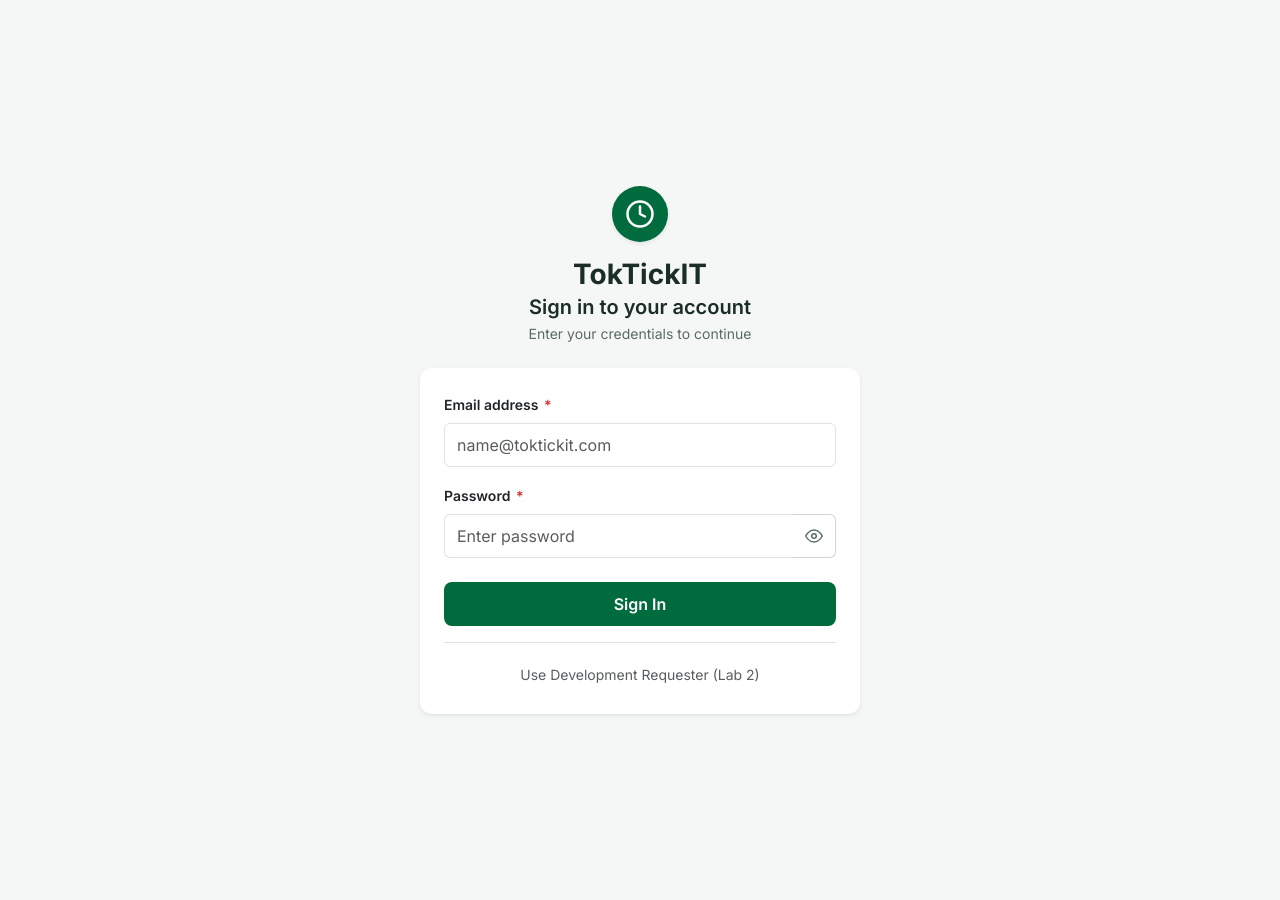
it: Login Component — UI-01 (AC-01, FR-01, FR-02) › cleans up requester context on logout and returns directly to Login view without change requester or sign in (lab3) buttons
Type "jennifer.anderson@example.com" into the field labelled "Email address *" at (640, 445), box [444,423,836,467]
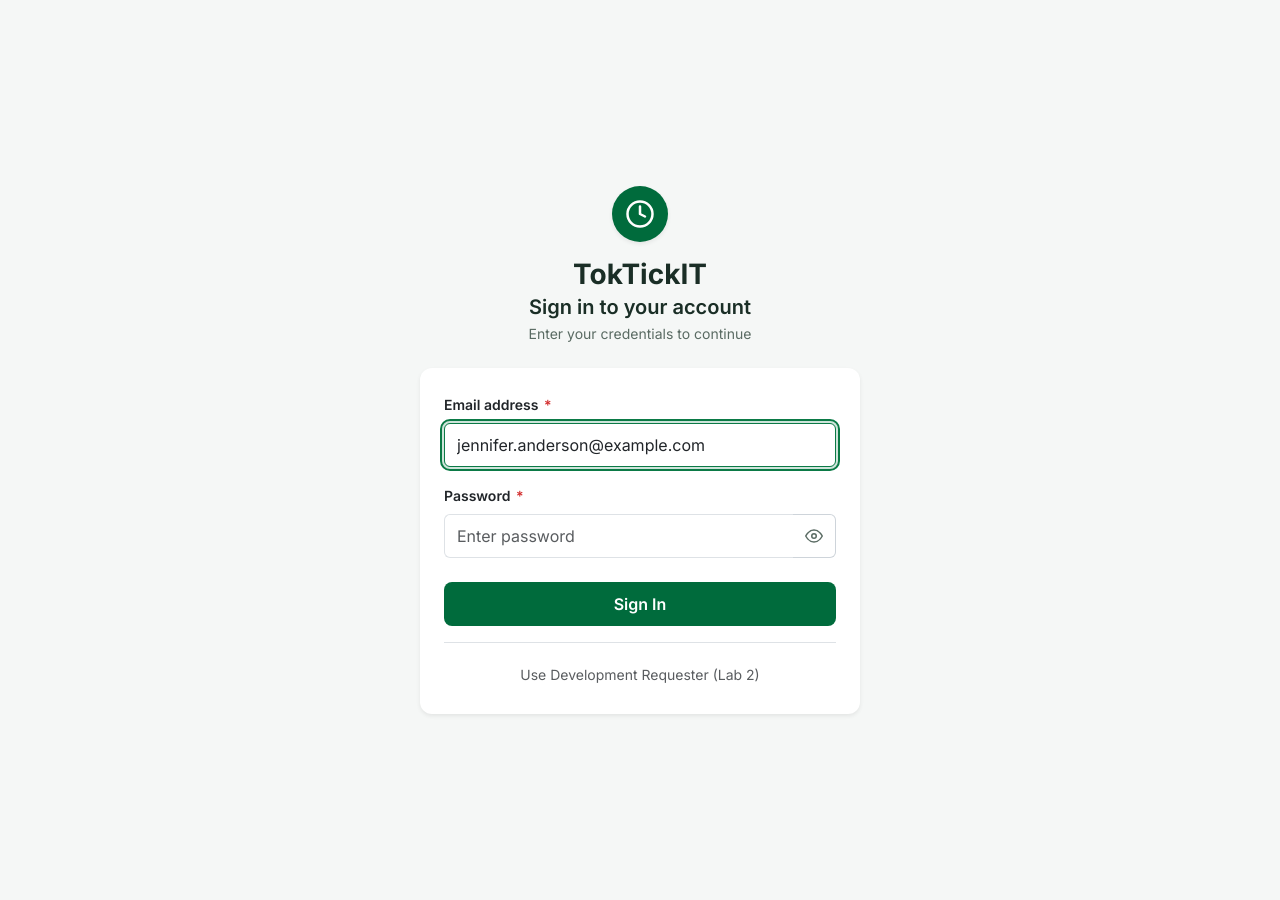
Type "Password123!" into the password field labelled "Password *" at (619, 536), box [444,514,794,558]
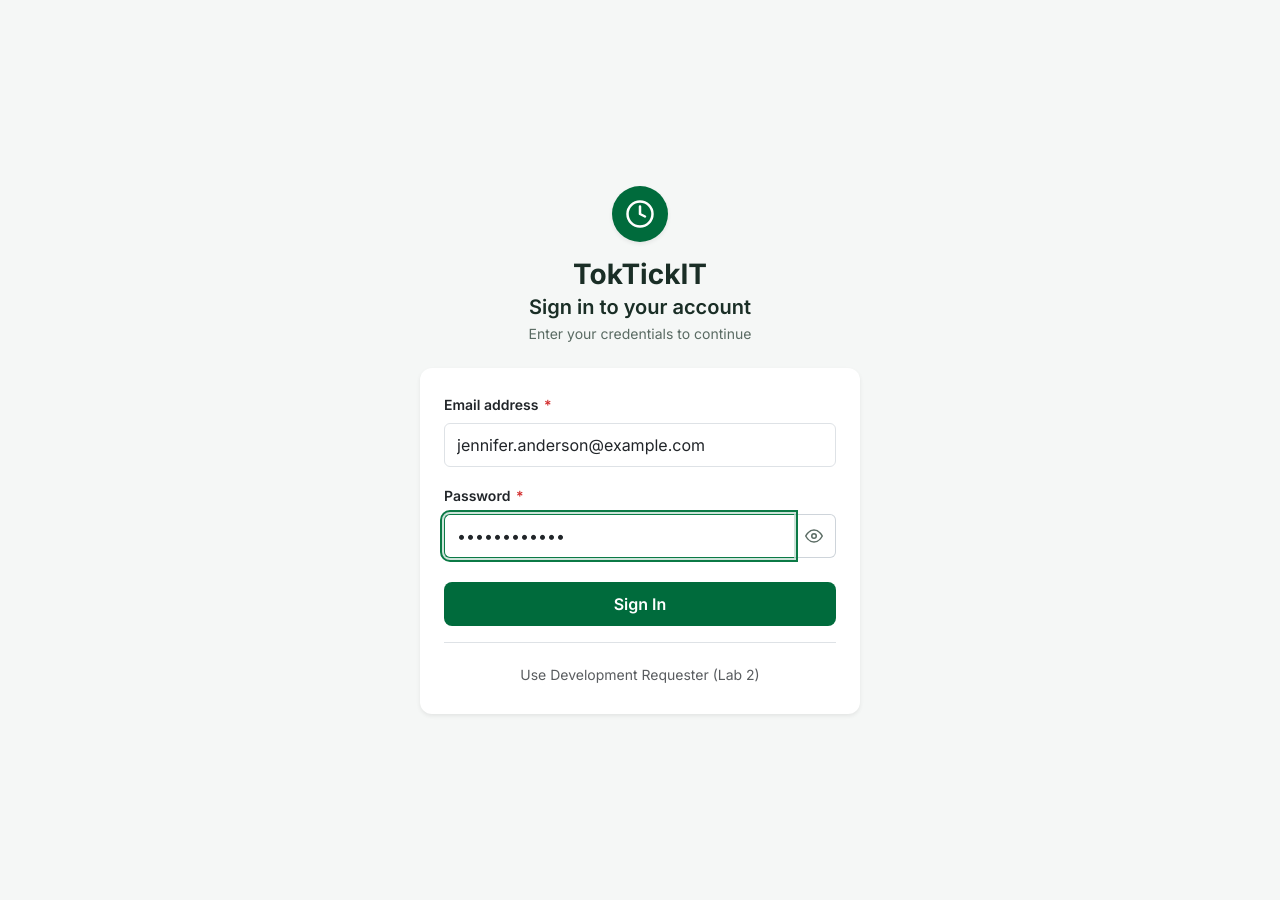
Click the button "Sign In" at (640, 604), box [444,582,836,626]
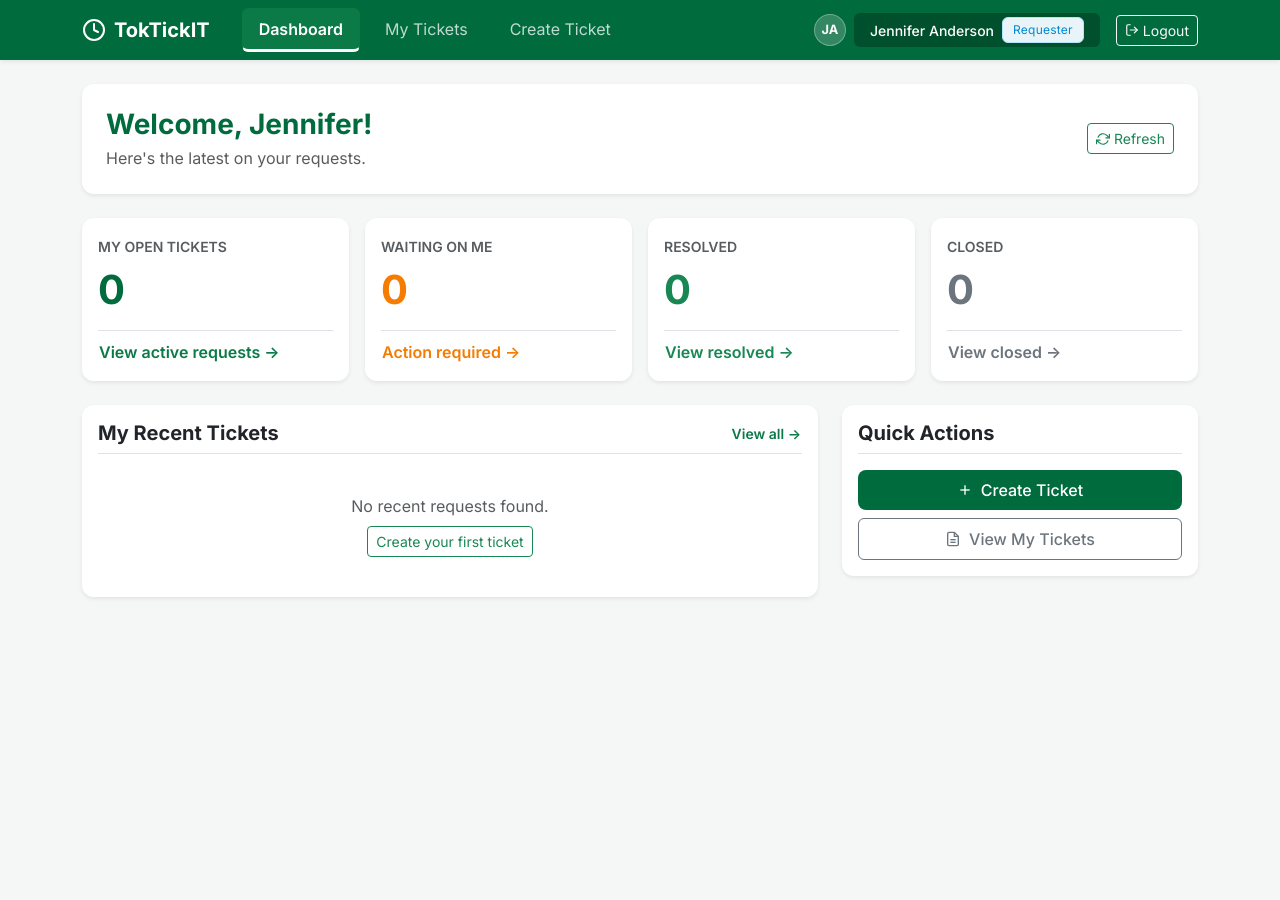
expect the heading "Welcome, Jennifer!" is shown: met, box [106,108,372,142]
expect the button "Logout" is shown: met
Click the button "Logout" at (1157, 30), box [1116,14,1198,46]
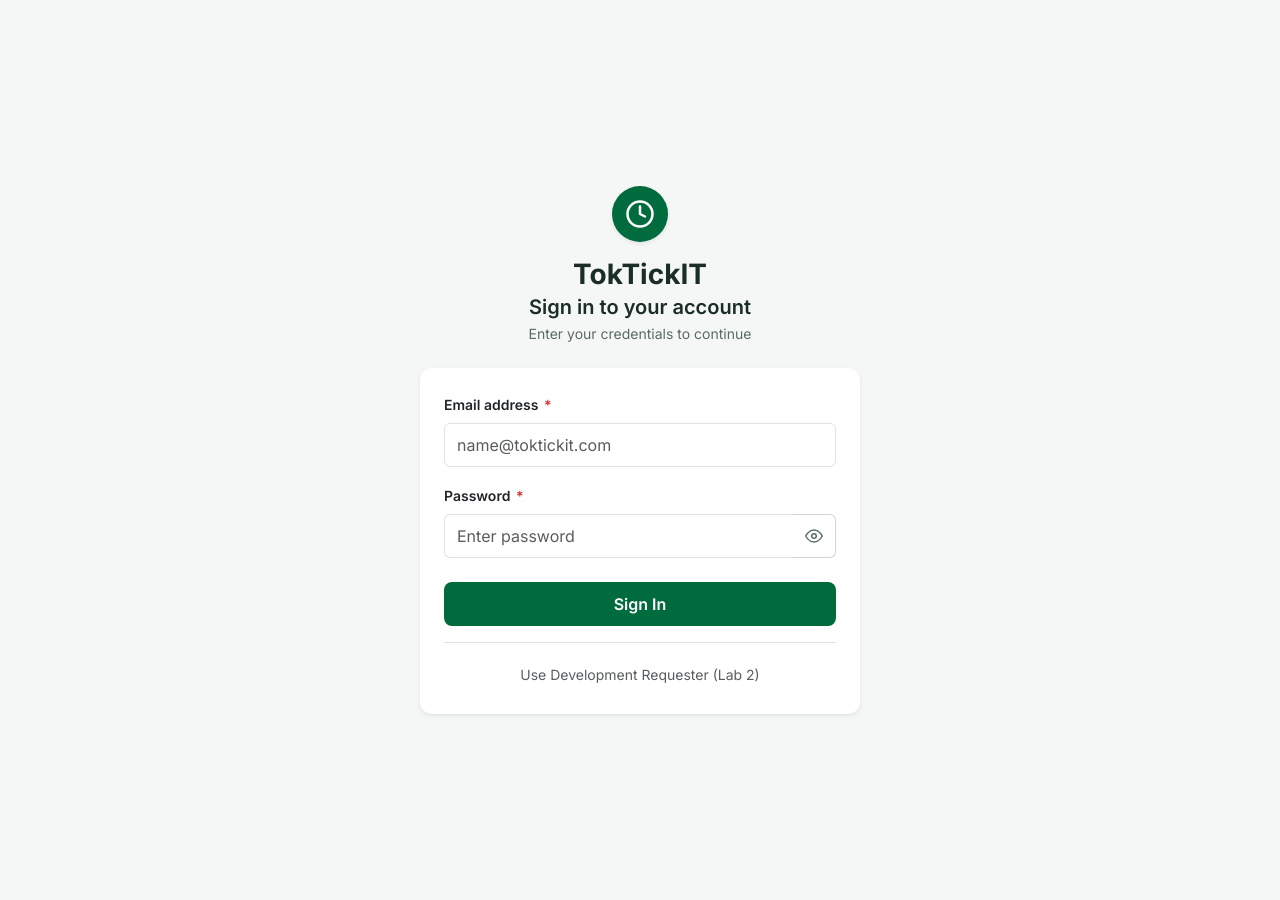
expect the heading "Sign in to your account" is shown: met, box [529,295,751,319]
expect the text "Jennifer Anderson" is gone: met
